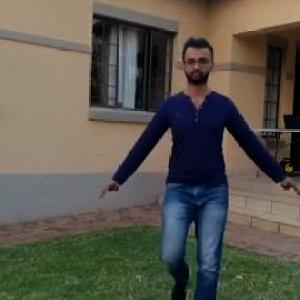land: (86, 24, 300, 299)
